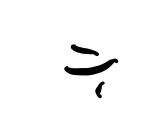div: (64, 44, 118, 98)
